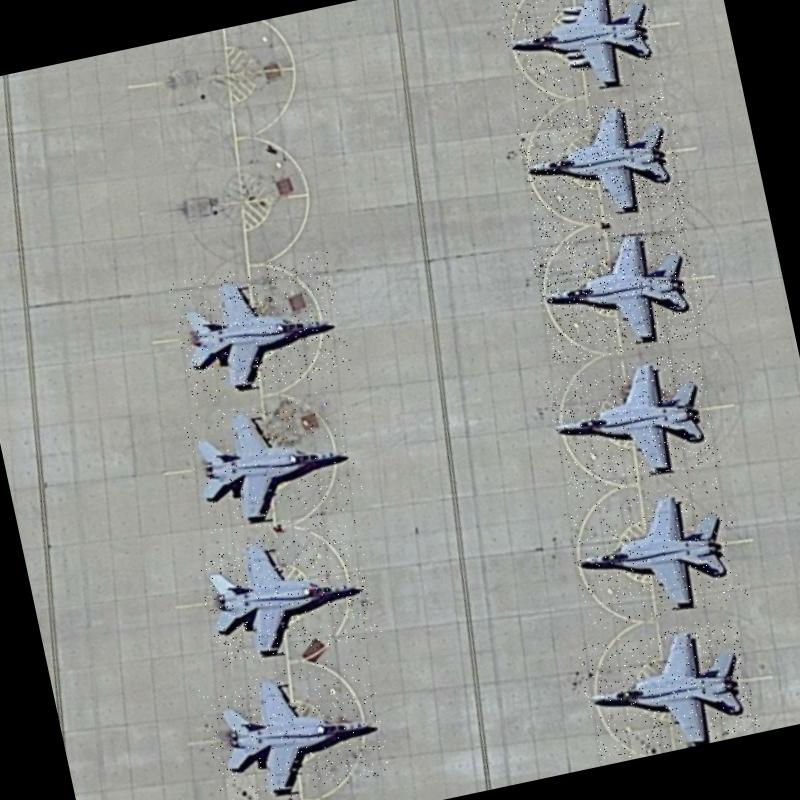A16: (194, 514, 382, 670), (182, 383, 366, 540), (198, 652, 393, 800), (564, 476, 748, 632), (168, 250, 353, 405), (529, 214, 710, 367), (576, 614, 760, 764), (544, 349, 723, 500), (514, 89, 692, 240), (496, 0, 665, 111)
